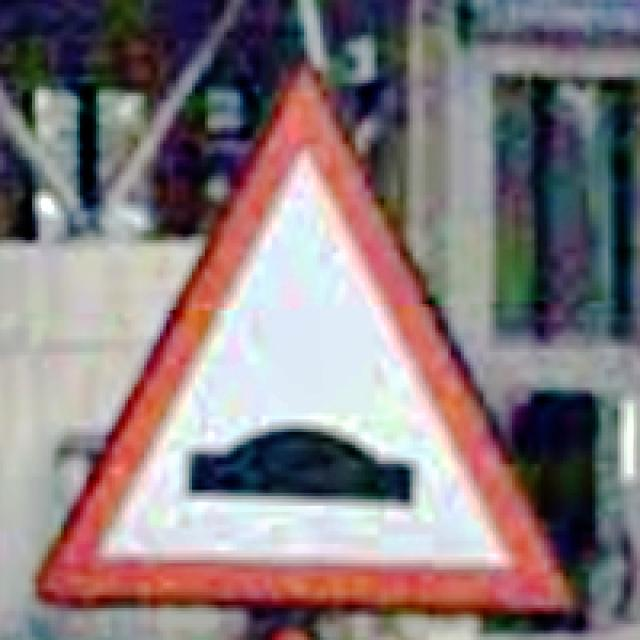hump: (38, 67, 570, 616)
